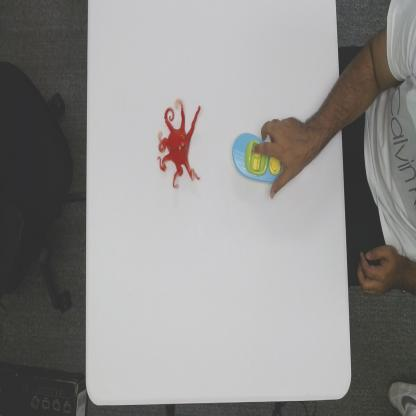Arm: (311, 61, 351, 158)
Boat: (230, 130, 282, 184)
Hand: (252, 115, 312, 199)
Octopus: (156, 97, 203, 190)
